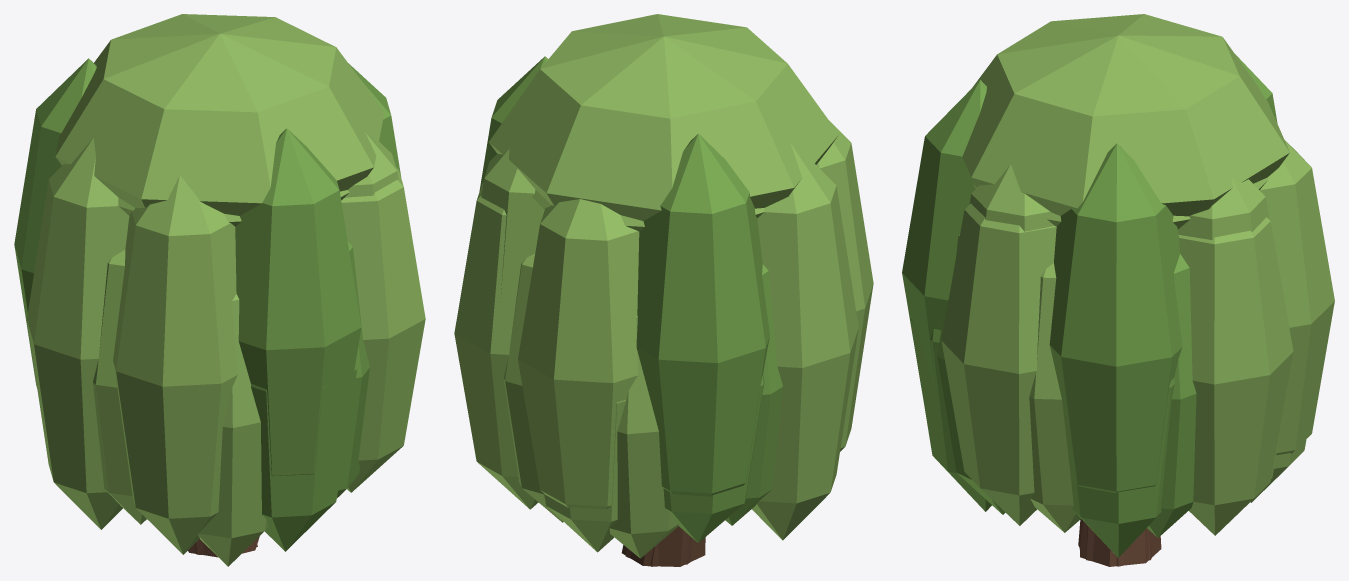
File: tree_willow_spring.glb
3 renders of one model, left to right at view 1: azimuth 30°, elevation 25°; view 2: azimuth 150°, elevation 25°; view 3: azimuth 270°, elevation 25°, orthographic.
Parts seen in each view (by area): view 1: Willow_dome_canopy.002, Willow_drooping_curtain_canopy.021, Willow_drooping_curtain_canopy.022, Willow_drooping_curtain_canopy.020, Willow_drooping_curtain_canopy.023, Willow_drooping_curtain_canopy.013, Willow_drooping_curtain_canopy.006, Willow_drooping_curtain_canopy.019, Willow_drooping_curtain_canopy.012, Willow_drooping_curtain_canopy.014, Willow_drooping_curtain_canopy.007, Willow_drooping_curtain_canopy.016; view 2: Willow_dome_canopy.002, Willow_drooping_curtain_canopy.019, Willow_drooping_curtain_canopy.018, Willow_drooping_curtain_canopy.020, Willow_drooping_curtain_canopy.017, Willow_drooping_curtain_canopy.010, Willow_drooping_curtain_canopy.021, Willow_drooping_curtain_canopy.001, Willow_drooping_curtain_canopy.011, Willow_drooping_curtain_canopy.009, Willow_drooping_curtain_canopy.003, Willow_drooping_curtain_canopy.002 (+2 smaller); view 3: Willow_dome_canopy.002, Willow_drooping_curtain_canopy.016, Willow_drooping_curtain_canopy.017, Willow_drooping_curtain_canopy.023, Willow_drooping_curtain_canopy.018, Willow_drooping_curtain_canopy.022, Willow_drooping_curtain_canopy.015, Willow_drooping_curtain_canopy.008, Willow_drooping_curtain_canopy, Willow_drooping_curtain_canopy.006, Willow_drooping_curtain_canopy.001, Willow_drooping_curtain_canopy.007 (+3 smaller).
Part boxes in pixels (x1,y1,x2,y2): Willow_dome_canopy.002: [55, 14, 383, 215]; Willow_drooping_curtain_canopy.021: [113, 175, 237, 554]; Willow_drooping_curtain_canopy.022: [235, 128, 361, 476]; Willow_drooping_curtain_canopy.020: [27, 138, 129, 529]; Willow_drooping_curtain_canopy.023: [341, 167, 425, 492]; Willow_drooping_curtain_canopy.013: [198, 294, 268, 566]; Willow_drooping_curtain_canopy.006: [251, 361, 357, 551]; Willow_drooping_curtain_canopy.019: [14, 58, 96, 388]; Willow_drooping_curtain_canopy.012: [93, 249, 146, 524]; Willow_drooping_curtain_canopy.014: [337, 241, 369, 497]; Willow_drooping_curtain_canopy.007: [345, 132, 398, 197]; Willow_drooping_curtain_canopy.016: [348, 63, 401, 177]; Willow_dome_canopy.002: [489, 14, 838, 220]; Willow_drooping_curtain_canopy.019: [636, 133, 769, 496]; Willow_drooping_curtain_canopy.018: [518, 199, 639, 509]; Willow_drooping_curtain_canopy.020: [752, 143, 858, 540]; Willow_drooping_curtain_canopy.017: [454, 182, 538, 509]; Willow_drooping_curtain_canopy.010: [609, 316, 678, 558]; Willow_drooping_curtain_canopy.021: [818, 120, 873, 451]; Willow_drooping_curtain_canopy.001: [481, 149, 544, 307]; Willow_drooping_curtain_canopy.011: [725, 264, 782, 525]; Willow_drooping_curtain_canopy.009: [503, 253, 563, 522]; Willow_drooping_curtain_canopy.003: [663, 373, 764, 542]; Willow_drooping_curtain_canopy.002: [544, 400, 625, 552]; Willow_dome_canopy.002: [962, 14, 1289, 216]; Willow_drooping_curtain_canopy.016: [1049, 143, 1182, 493]; Willow_drooping_curtain_canopy.017: [1178, 217, 1293, 535]; Willow_drooping_curtain_canopy.023: [941, 203, 1056, 525]; Willow_drooping_curtain_canopy.018: [1259, 140, 1334, 455]; Willow_drooping_curtain_canopy.022: [902, 80, 986, 393]; Willow_drooping_curtain_canopy.015: [1029, 263, 1080, 532]; Willow_drooping_curtain_canopy.008: [1147, 254, 1196, 537]; Willow_drooping_curtain_canopy: [1071, 378, 1174, 557]; Willow_drooping_curtain_canopy.006: [910, 319, 991, 511]; Willow_drooping_curtain_canopy.001: [1178, 178, 1269, 239]; Willow_drooping_curtain_canopy.007: [969, 164, 1054, 231].
Bounding box in the file's own units: 2.41 × 3.16 × 2.41.
